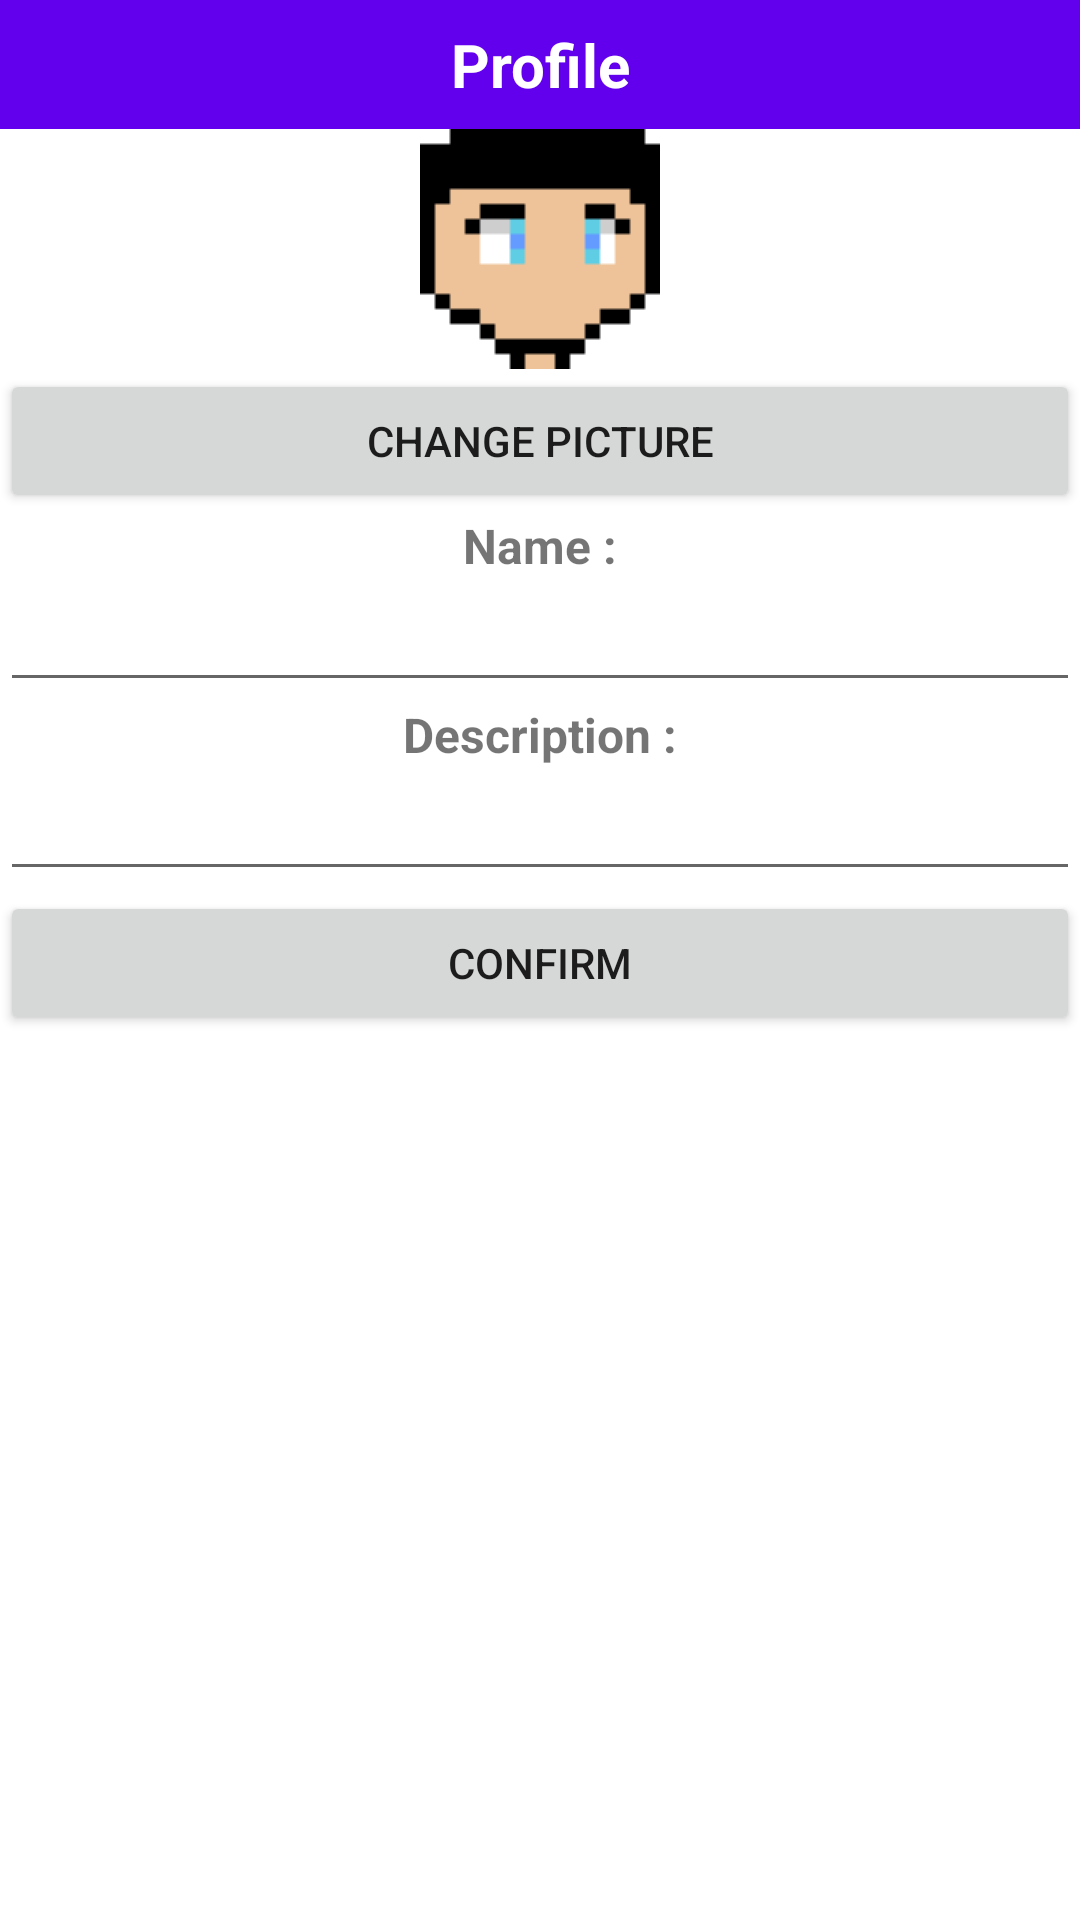

Icons on this 1080 x 1920 Android screen, each with its box as (x1, y1, x2, y2):
defaultpp: (420, 129, 660, 369)
